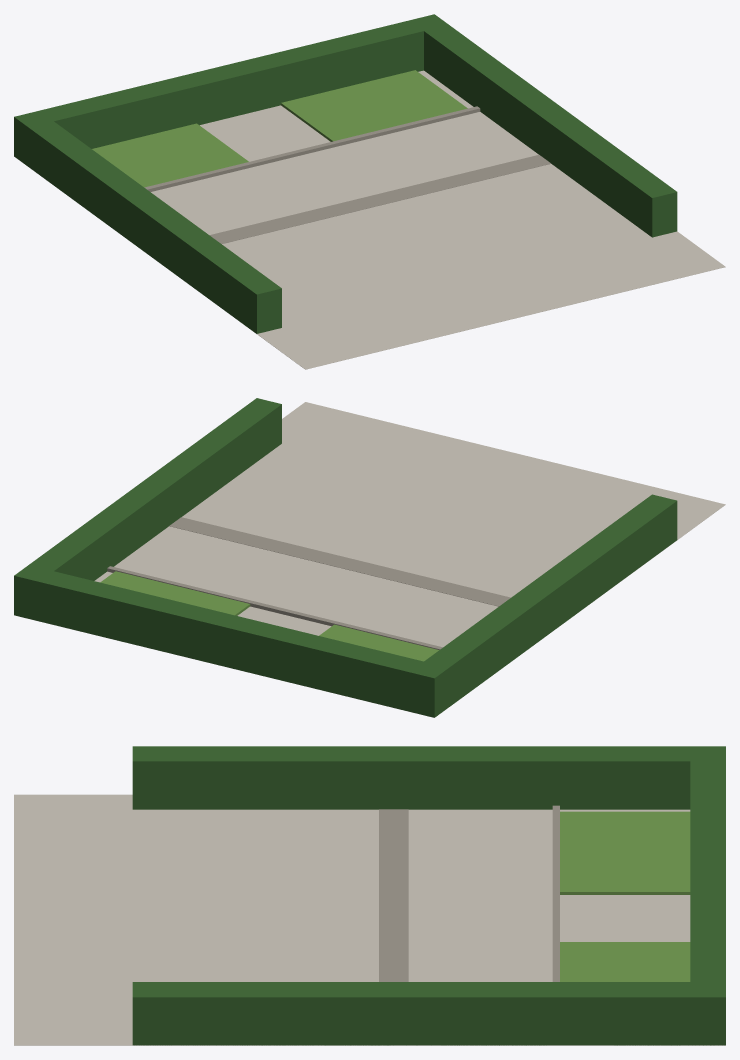
Rendered from park.glb.
The picture shows the model from 3 angles, top to bottom: view 1: azimuth 30°, elevation 25°; view 2: azimuth 150°, elevation 25°; view 3: azimuth 270°, elevation 25°; orthographic projection. The views are drawn at different scales.
Parts seen in each view (by area): view 1: paving, hedge-back, hedge-left, hedge-right, lawn-right, lawn-left, band, kerb-back; view 2: paving, hedge-back, hedge-left, hedge-right, band, lawn-right, kerb-back, lawn-left; view 3: paving, hedge-right, hedge-left, lawn-left, hedge-back, lawn-right, band, kerb-back.
Part boxes in pixels (x1,y1,x2,y2): paving: (14,70,725,369); hedge-back: (14,14,448,166); hedge-left: (28,121,281,333); hedge-right: (424,25,677,237); lawn-right: (281,70,467,141); lawn-left: (92,123,248,187); band: (209,155,551,243); kerb-back: (144,106,480,191); paving: (17,402,725,717); hedge-back: (14,565,449,717); hedge-left: (424,494,677,706); hedge-right: (29,398,281,580); band: (169,517,510,606); lawn-right: (100,571,250,615); kerb-back: (107,566,442,649); lawn-left: (319,624,438,661); paving: (14,794,725,1045); hedge-right: (132,982,690,1045); hedge-left: (132,746,690,809); lawn-left: (560,811,690,894); hedge-back: (690,746,725,1045); lawn-right: (560,942,690,981); band: (379,809,408,981); kerb-back: (552,805,559,981).
Size of what is drawn, in the model's own units: 10 by 0.9 by 12.
